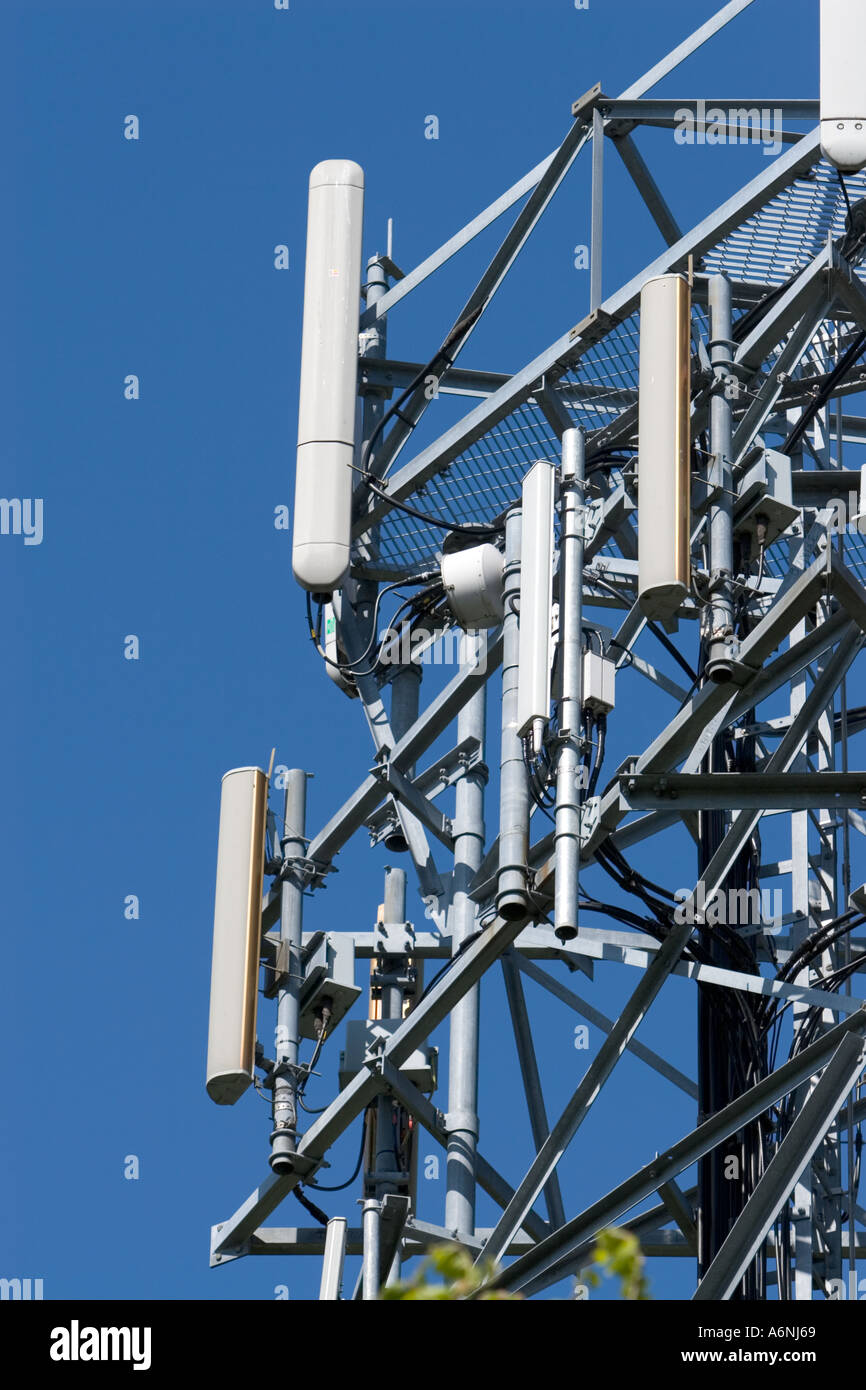sa: (277, 137, 372, 616), (195, 725, 293, 1102), (490, 440, 579, 841), (613, 256, 699, 645)
